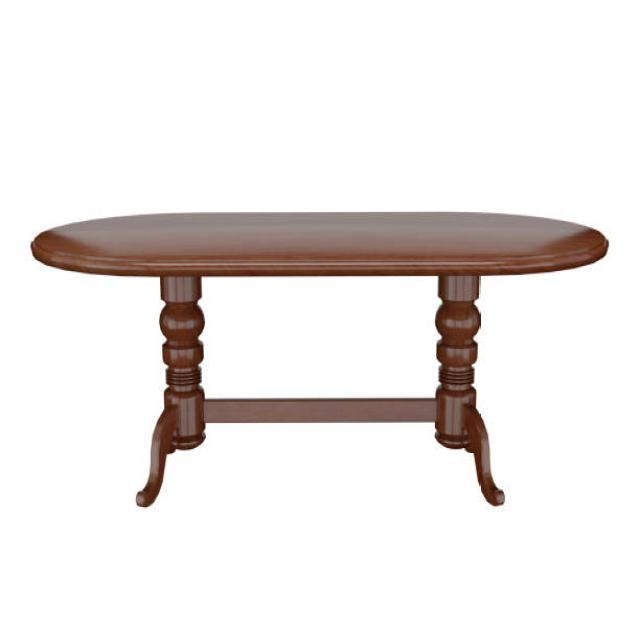table: (29, 210, 609, 508)
